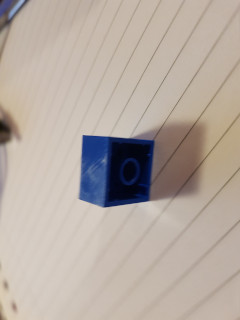2x2 blue: (75, 133, 156, 208)
